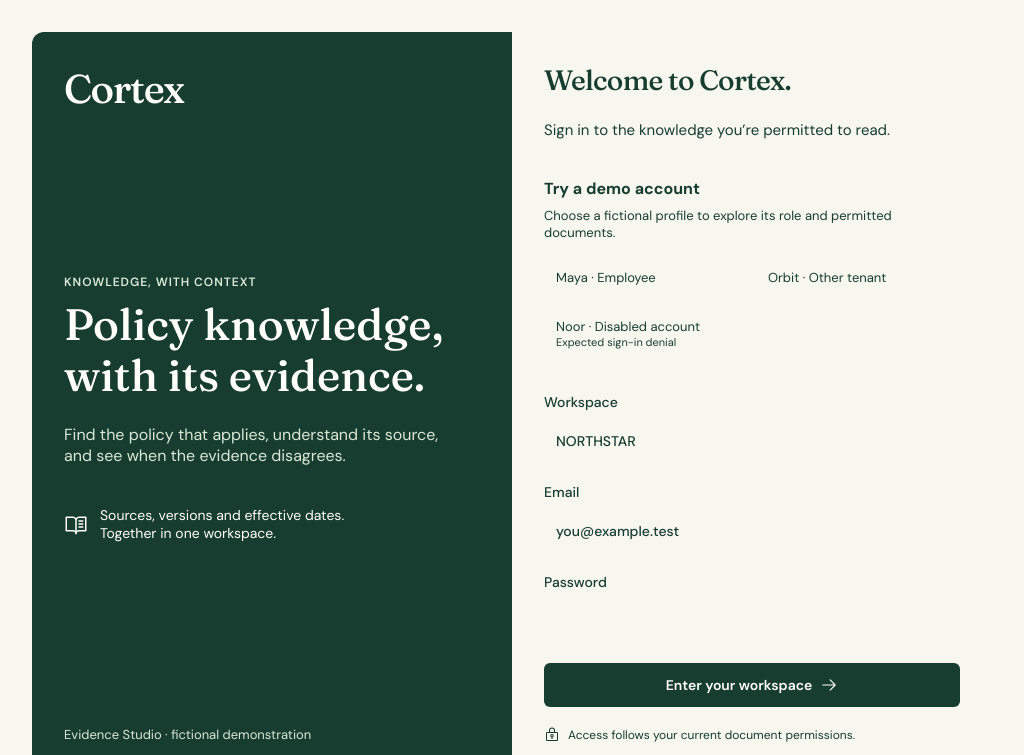
Test: unapproved preview origin explains the configuration error and links to the approved demo
What coordinates should you click on to do the following:
click the button "Maya · Employee"
I would click on:
 (646, 277)
Its box is [544,253,748,301].
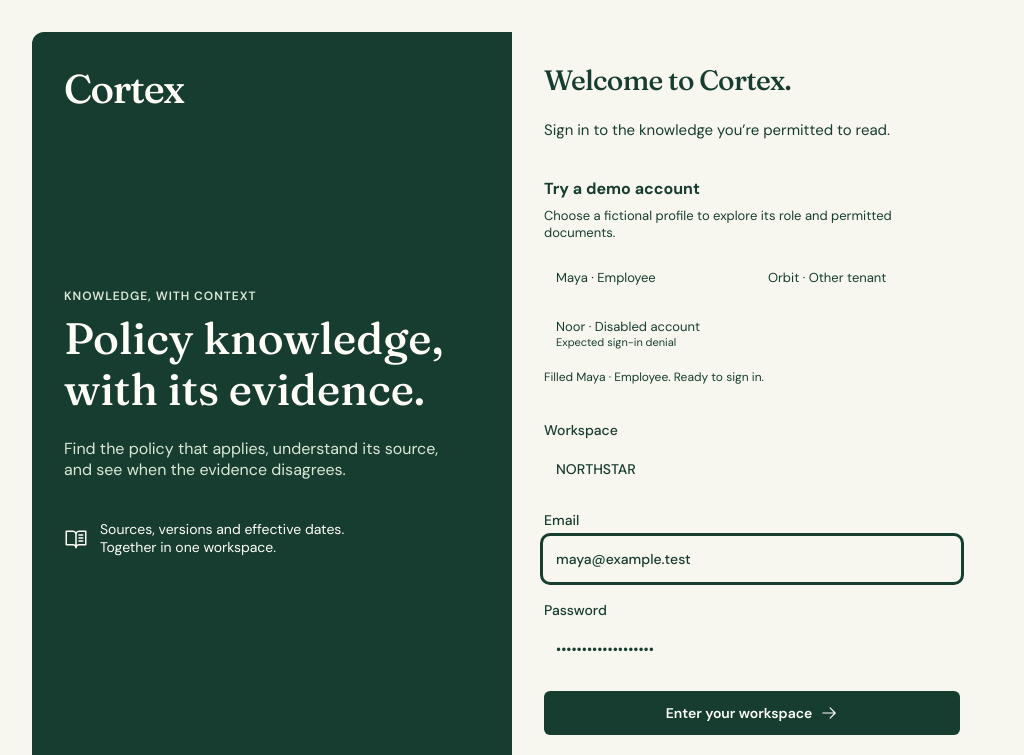
What coordinates should you click on to do the following:
click the button "Enter your workspace"
I would click on:
 (752, 713)
Its box is [544,691,960,735].
(page scrolled)
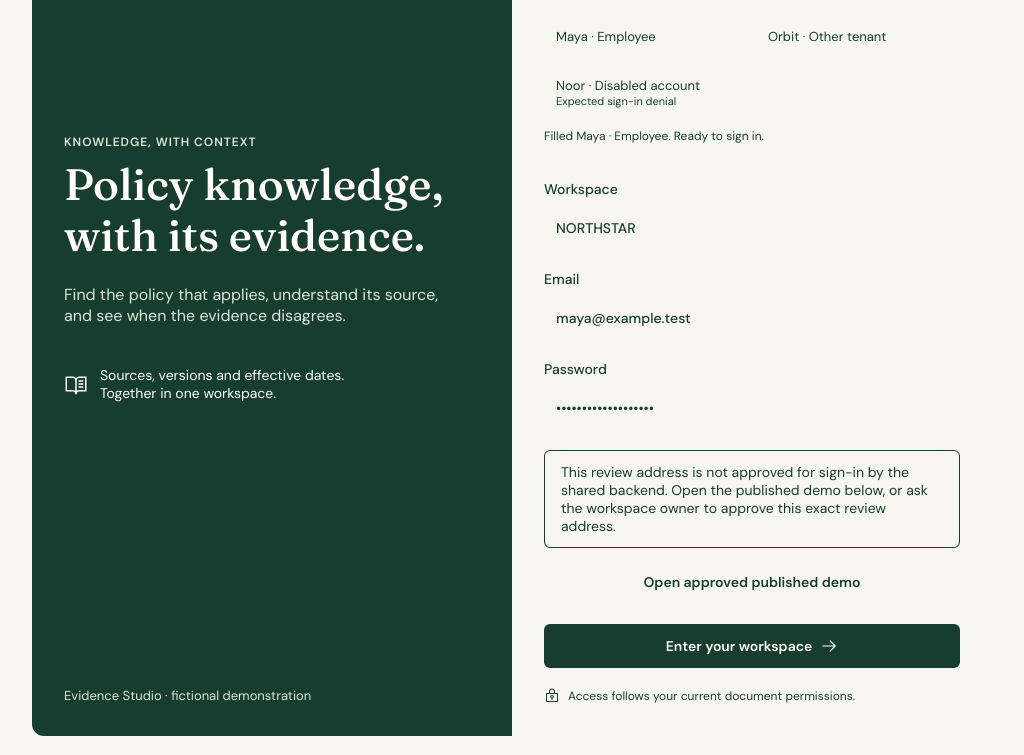
expect the 2nd message shows "This review address is not approved": met, box [561,463,928,535]
